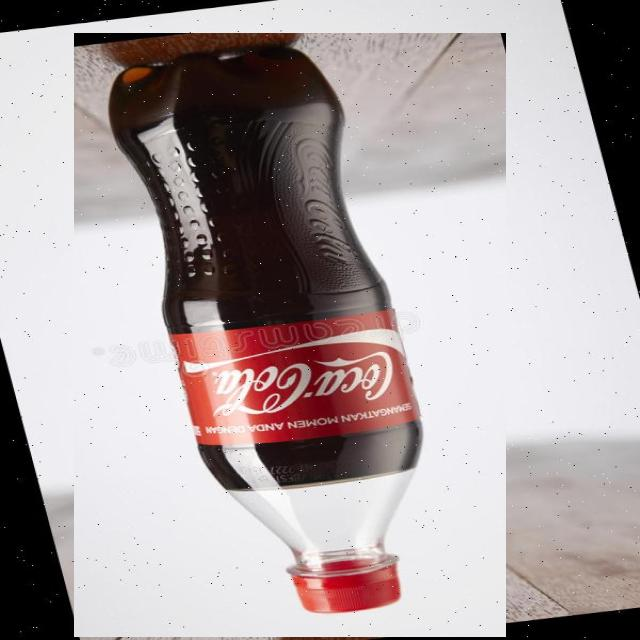coca-cola: (74, 33, 507, 637)
